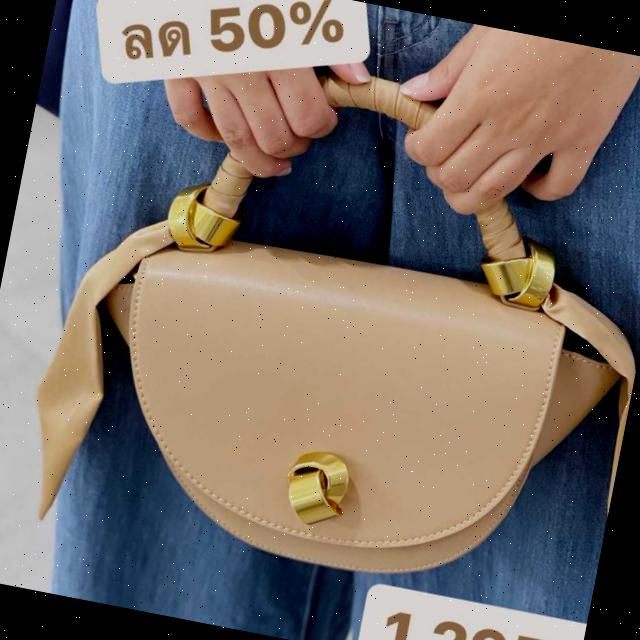Handbag: (54, 151, 640, 618)
